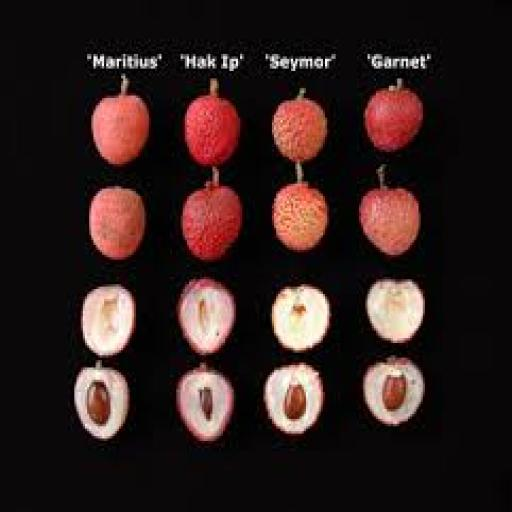lychee: (360, 167, 420, 257), (92, 76, 150, 166), (181, 179, 242, 262), (185, 79, 240, 166), (179, 277, 235, 355), (264, 363, 322, 436), (177, 366, 233, 440), (364, 358, 424, 426), (364, 81, 422, 151), (75, 363, 129, 438), (90, 187, 146, 259), (272, 182, 329, 252), (272, 89, 327, 161), (81, 285, 135, 357), (272, 285, 329, 352), (366, 280, 424, 342)
